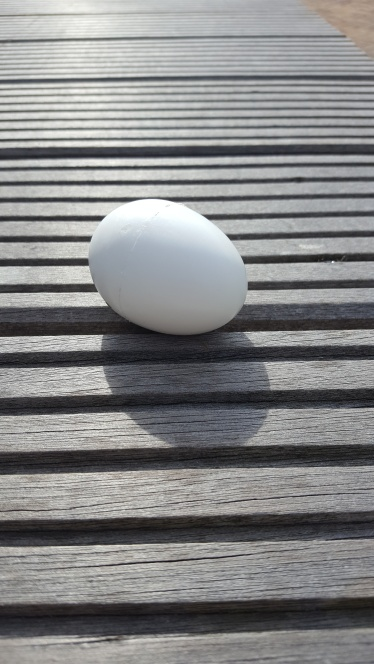egg: (86, 196, 249, 339)
